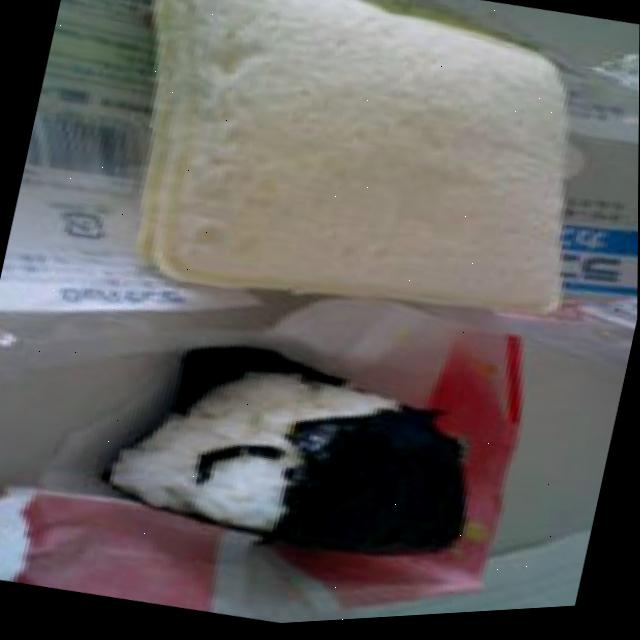米饭主食: (99, 328, 492, 588)
